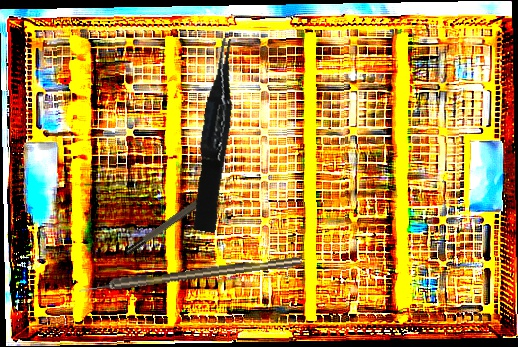Fixation Ring: (121, 180, 224, 258)
Hook Surgical: (78, 255, 303, 294)
Tissue Forceps: (184, 36, 249, 234)
